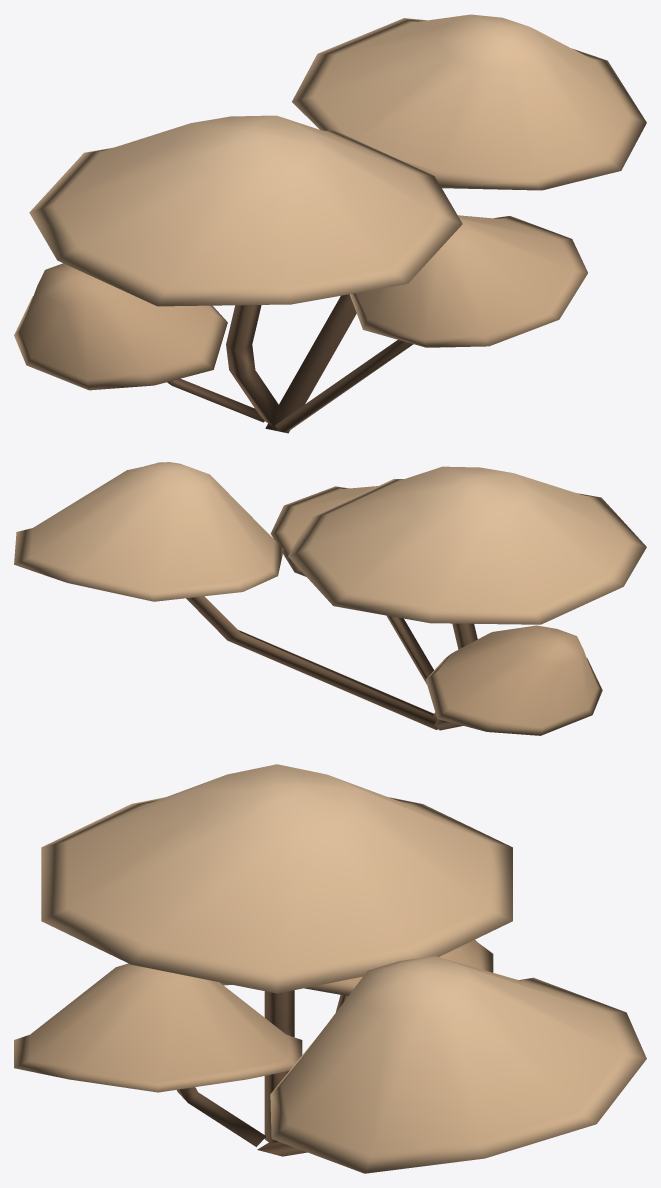
3 views of the same model, one above another, from view 1: azimuth 30°, elevation 25°; view 2: azimuth 150°, elevation 25°; view 3: azimuth 270°, elevation 25° (orthographic). The views are drawn at different scales.
Parts seen in each view (by area): view 1: fp14; view 2: fp14; view 3: fp14.
Part boxes in pixels (x1,y1,x2,y2): fp14: (14, 14, 646, 433); fp14: (14, 462, 646, 735); fp14: (14, 764, 646, 1173).
Bounding box in the file's own units: 55.55 × 25.55 × 41.68.
